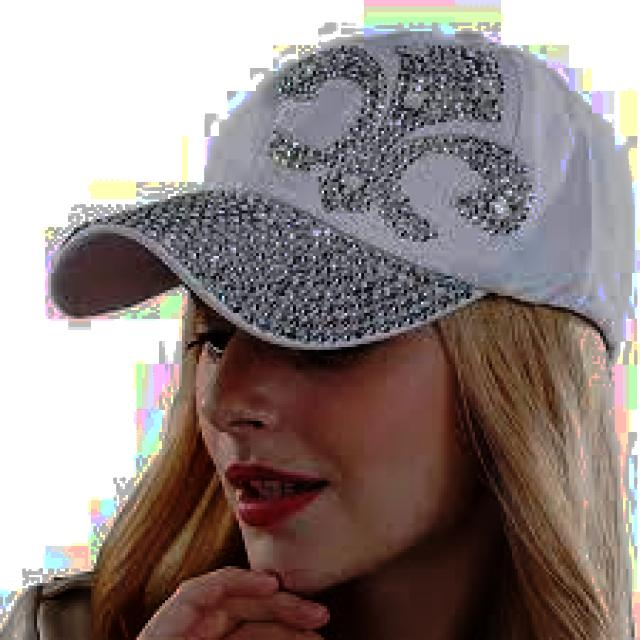TOPI: (43, 17, 620, 356)
